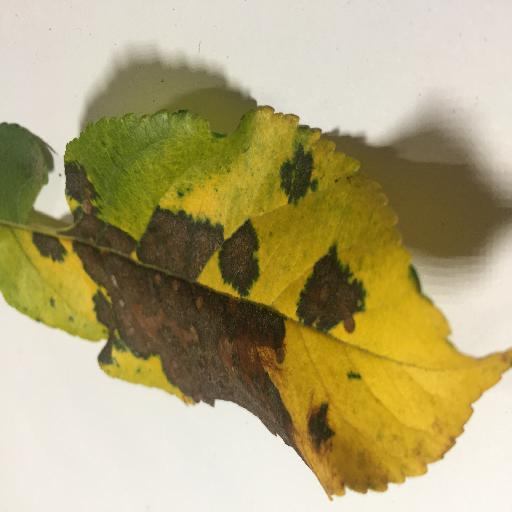Brown_Spot: (48, 175, 289, 444), (294, 248, 373, 341)
